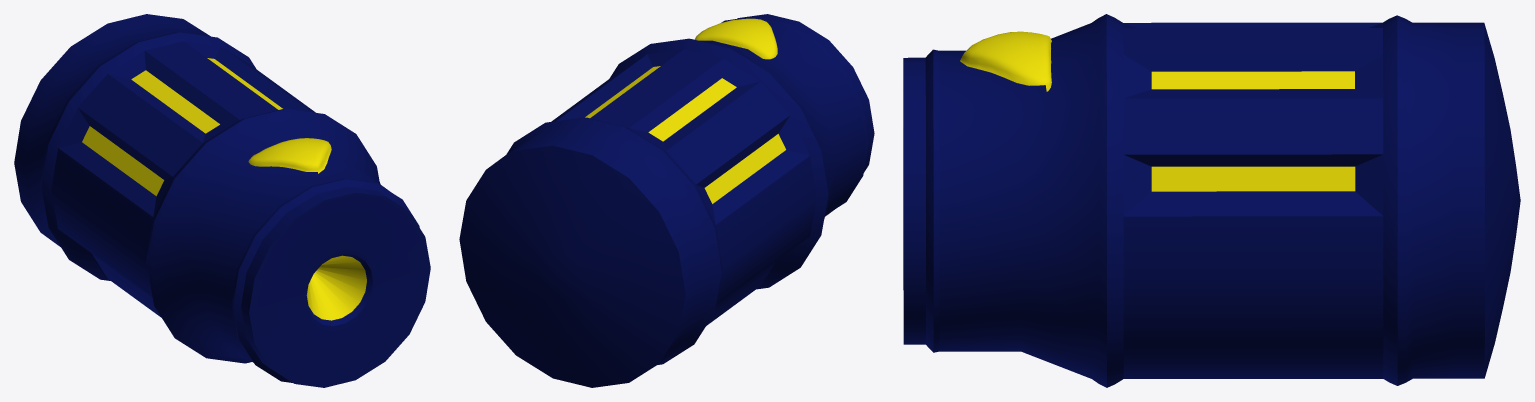
Rendered from Vso_Station_Gatling_Gun_Carronade_Left_Head.fbx.
3 renders of one model, left to right at view 1: azimuth 30°, elevation 25°; view 2: azimuth 150°, elevation 25°; view 3: azimuth 270°, elevation 25°, orthographic. The views are drawn at different scales.
Visible parts, largest first — view 1: Vso_Station_Gatling_Gun_Carronade_Left_Head; view 2: Vso_Station_Gatling_Gun_Carronade_Left_Head; view 3: Vso_Station_Gatling_Gun_Carronade_Left_Head.
Boxes of the visible parts, <box> form: Vso_Station_Gatling_Gun_Carronade_Left_Head: <box>14,14,430,387</box>; Vso_Station_Gatling_Gun_Carronade_Left_Head: <box>459,14,874,387</box>; Vso_Station_Gatling_Gun_Carronade_Left_Head: <box>903,14,1520,387</box>.
Size of the model in its own units: 0.4005 by 0.3945 by 0.6587.
